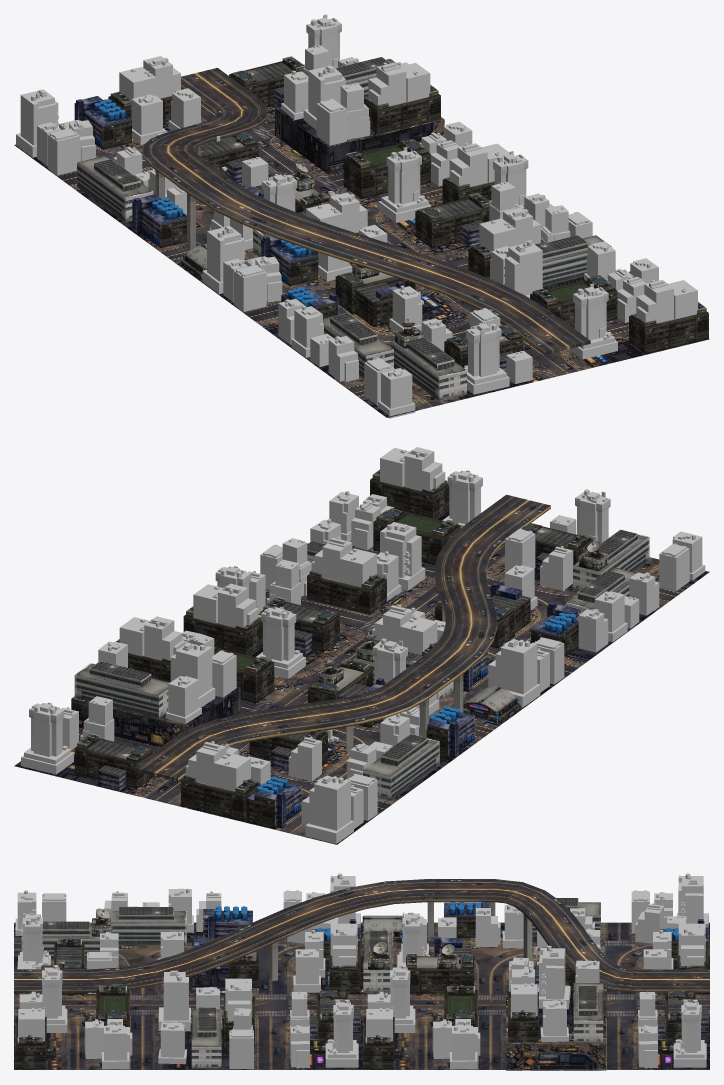
Rendered from CP_Slums_Pack_200x400_01.fbx.
3 views of the same model, one above another, from view 1: azimuth 30°, elevation 25°; view 2: azimuth 150°, elevation 25°; view 3: azimuth 270°, elevation 25° (orthographic). The views are drawn at different scales.
Visible parts, largest first — view 1: CP_Slums_Pack_200x400_01; view 2: CP_Slums_Pack_200x400_01; view 3: CP_Slums_Pack_200x400_01.
Boxes of the visible parts, x1,y1,x2,y2 form: CP_Slums_Pack_200x400_01: (14,14,709,418); CP_Slums_Pack_200x400_01: (14,447,709,844); CP_Slums_Pack_200x400_01: (14,873,709,1070).
Size of the model in its own units: 20003 by 6041 by 40000.
